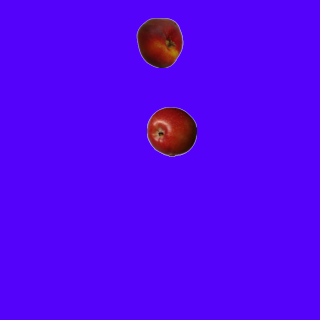Apple Braeburn: (146, 106, 196, 156)
Nectarine Flat: (134, 17, 184, 67)
